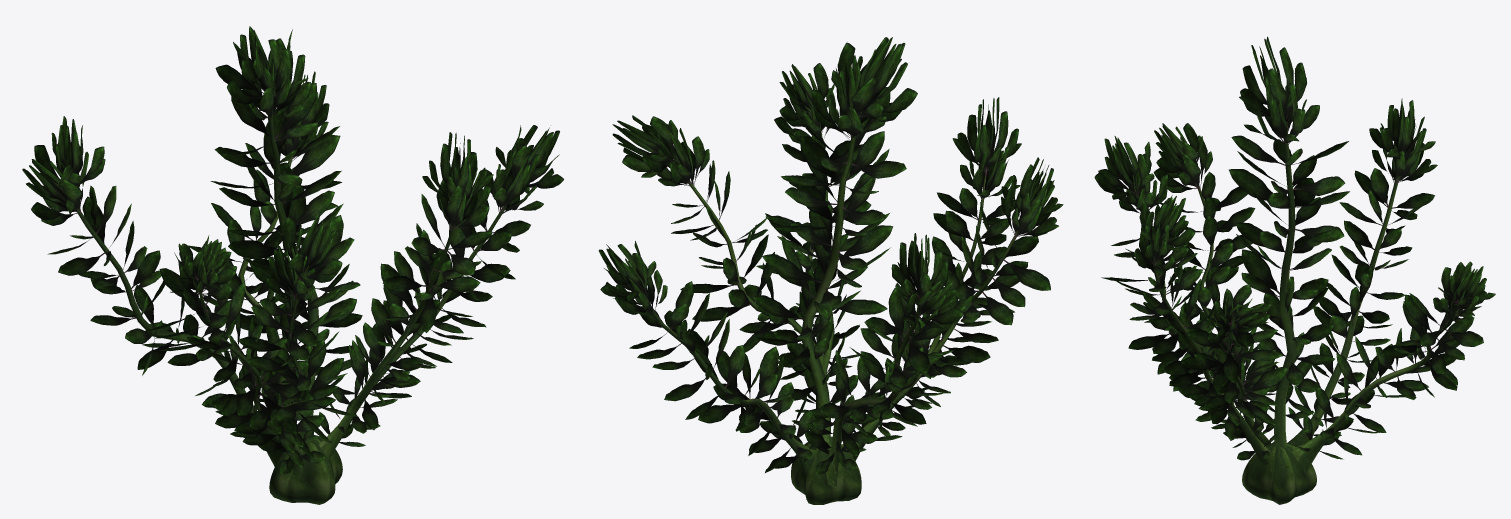
File: hydrilla.glb
The picture shows the model from 3 angles, left to right: view 1: azimuth 30°, elevation 25°; view 2: azimuth 150°, elevation 25°; view 3: azimuth 270°, elevation 25°; orthographic projection. The views are drawn at different scales.
Parts seen in each view (by area): view 1: LOD0; view 2: LOD0; view 3: LOD0.
Part boxes in pixels (x1,y1,x2,y2): LOD0: (22,26,563,504); LOD0: (598,37,1063,504); LOD0: (1094,36,1495,504).
Bounding box in the file's own units: 0.0364 × 0.0389 × 0.0313.
Materials: 3 (3 with a texture image).
